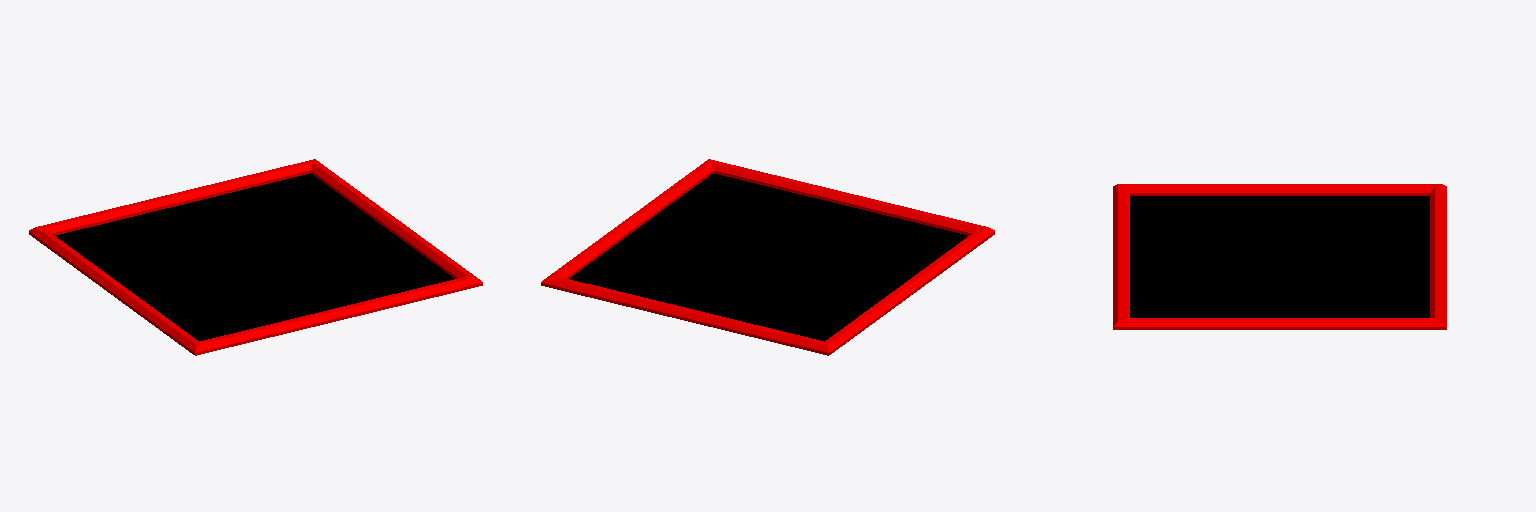
Rendered from emptyTile.obj.
3 views of the same model, side by side, from view 1: azimuth 30°, elevation 25°; view 2: azimuth 150°, elevation 25°; view 3: azimuth 270°, elevation 25° (orthographic).
Size of the model in its own units: 20 by 0.5 by 20.